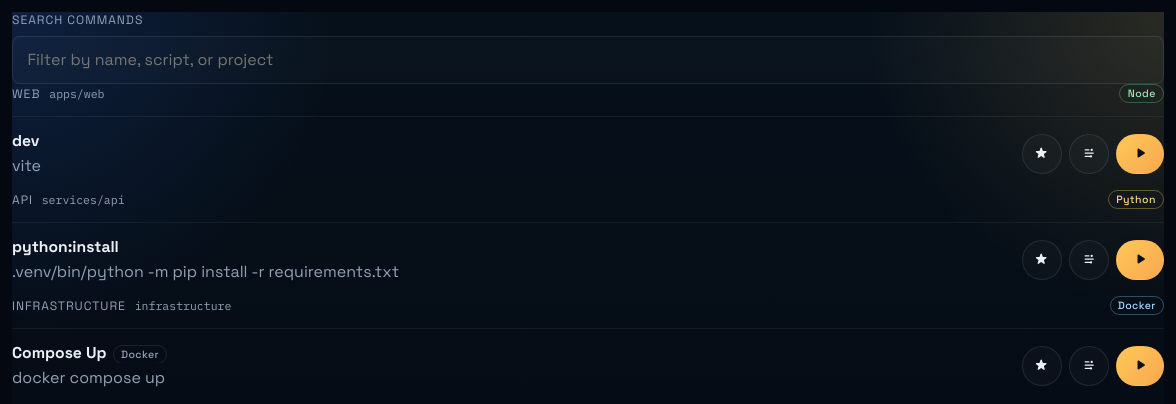
Test: CommandPanel › mixed detected projects › finds a whole project by its folder
Type "infrastructure" into the search field with placeholder "Filter by name, script, or project" at (588,60), box 12,36 -> 1164,84
Wait 300 ms
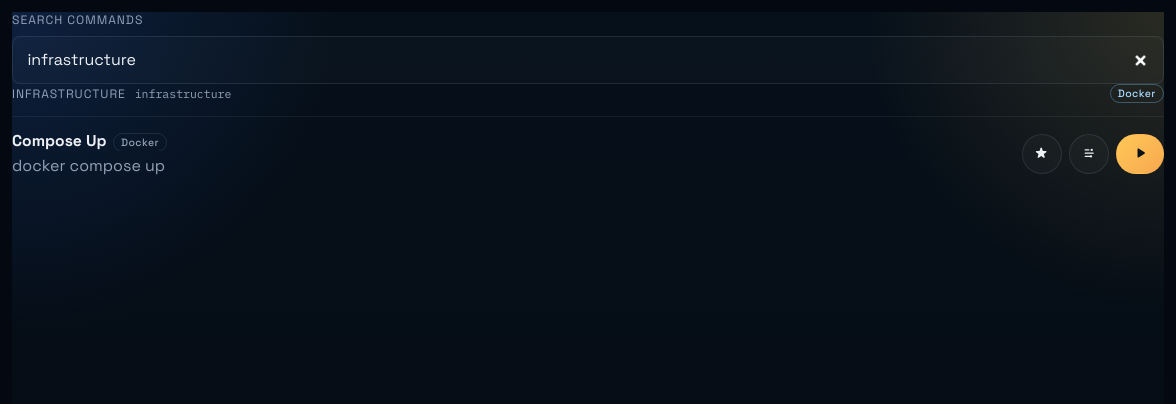
Expected: the text "Compose Up" is shown, 12,131 -> 106,151
Result: the text "python:install" is gone
